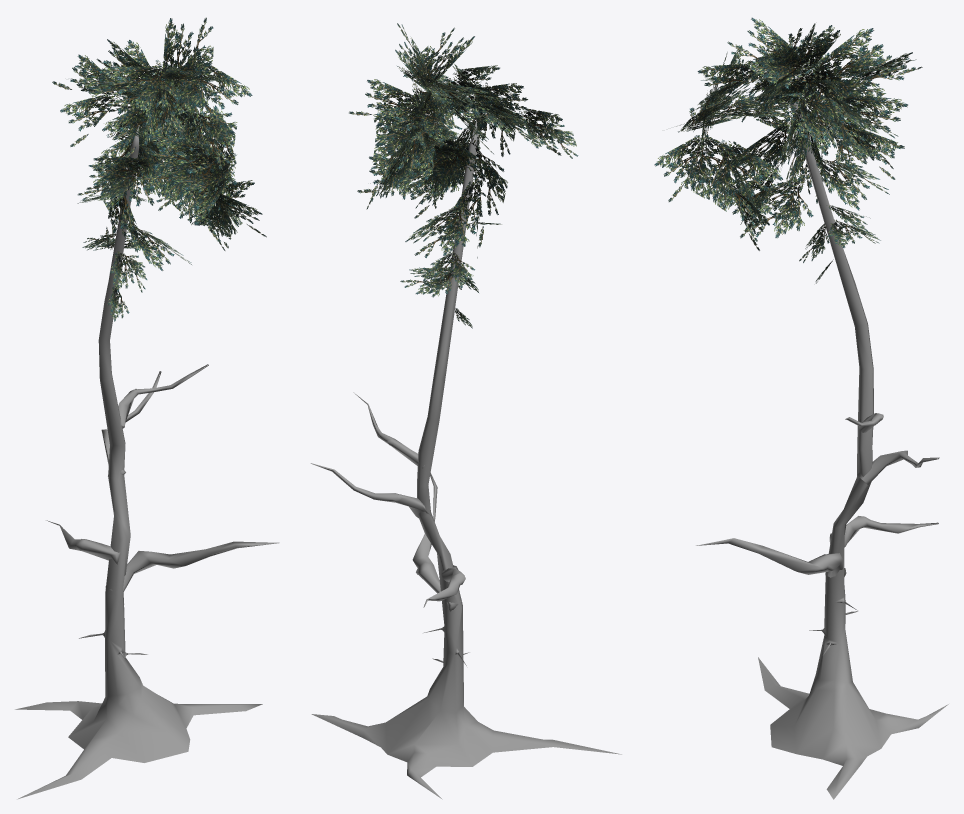
The model's file is bjorktree_lod2.fbx.
The picture shows the model from 3 angles, left to right: view 1: azimuth 30°, elevation 25°; view 2: azimuth 150°, elevation 25°; view 3: azimuth 270°, elevation 25°; orthographic projection. The views are drawn at different scales.
Visible parts, largest first — view 1: Default_Layer; view 2: Default_Layer; view 3: Default_Layer.
Part boxes in pixels (x1,y1,x2,y2): Default_Layer: (15,17,279,799); Default_Layer: (310,23,621,799); Default_Layer: (654,17,948,799).
Bounding box in the file's own units: 710 × 1720 × 626.
